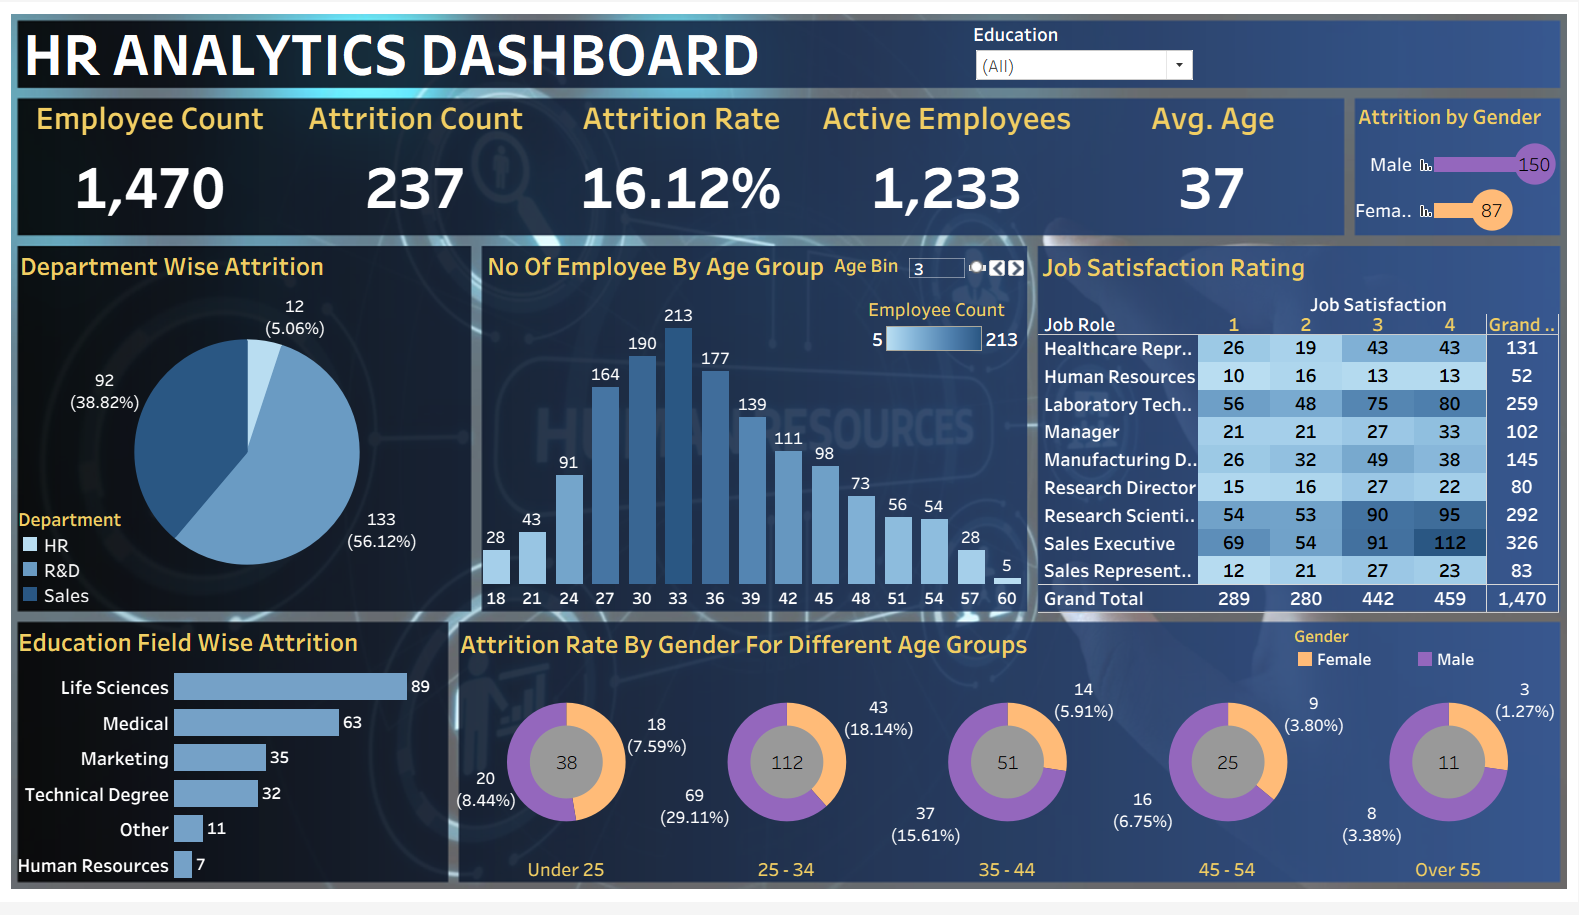

Layout of this report page (visuals, bound fields, positions):
{"tool":"tableau","page":{"name":"HR ANALYTICS DASHBOARD","canvas":[1000,1000],"units":"permille","ordinal":0},"visuals":[{"type":"image","param":"Image/HR background.pptx.png","box":[5.1,8.9,989.9,982.2]},{"type":"text","box":[12.7,16.7,978.5,78.9]},{"type":"filter","title":"Department Wise Attrition","param":"[federated.0zcrlvu05upln611k58nj06wpeat].[none:Education:nk]","box":[616.5,21.1,141.1,75.6]},{"type":"worksheet","title":"KPI","mark":"Automatic","box":[11.4,105.6,841.1,152.2]},{"type":"worksheet","title":"Attrition by Gender","mark":"Automatic","rows":["Gender"],"cols":["Calculation_0976092900720640","Calculation_0976092900720640"],"box":[857.6,106.7,131,151.1]},{"type":"worksheet","title":"Department Wise Attrition","mark":"Pie","box":[10.8,270,292.4,406.7]},{"type":"worksheet","title":"No Of Employee By Age Group","mark":"Automatic","rows":["Employee Count"],"cols":["Age (bin)"],"box":[303.2,270,346.8,405.6]},{"type":"worksheet","title":"Job Satisfaction Rating","mark":"Square","rows":["Job Role"],"cols":["Job Satisfaction"],"box":[657.6,271.1,329.8,407.8]},{"type":"parameter","param":"[Parameters].[Parameter 0207534358319104]","box":[528.5,281.1,122.2,48.9]},{"type":"legend","title":"No Of Employee By Age Group","param":"[federated.0zcrlvu05upln611k58nj06wpeat].[sum:Employee Count:qk]","box":[550,326.7,98.1,73.3]},{"type":"legend","title":"Department Wise Attrition","param":"[federated.0zcrlvu05upln611k58nj06wpeat].[none:Department:nk]","box":[12,560,71.5,113.3]},{"type":"worksheet","title":"Education Field Wise Attrition","mark":"Automatic","rows":["Education Field"],"cols":["Calculation_0976092900720640"],"box":[9.5,687.8,275.3,290]},{"type":"worksheet","title":"Attrition Rate By Gender For Different Age Groups","mark":"Pie","rows":["Calculation_0207534376513538","Calculation_0207534376513538"],"cols":["CF_age band"],"box":[289.2,690,698.1,287.8]},{"type":"legend","title":"Attrition Rate By Gender For Different Age Groups","param":"[federated.0zcrlvu05upln611k58nj06wpeat].[none:Gender:nk]","box":[819.6,692.2,166.5,52.2]}]}

Visuals, with their boxes on the dashboard's canvas, which has no fixed pixel size, in thousandths of its width and height (x1, y1, x2, y2). These are canvas units, not pixel positions in the 1579x915 screenshot, which may show the page scaled, cropped or inside an application window:
image: [x1=5, y1=9, x2=995, y2=991]
text: [x1=13, y1=17, x2=991, y2=96]
"Department Wise Attrition" filter: [x1=616, y1=21, x2=758, y2=97]
"KPI" worksheet: [x1=11, y1=106, x2=852, y2=258]
"Attrition by Gender" worksheet: [x1=858, y1=107, x2=989, y2=258]
"Department Wise Attrition" worksheet (Pie marks): [x1=11, y1=270, x2=303, y2=677]
"No Of Employee By Age Group" worksheet: [x1=303, y1=270, x2=650, y2=676]
"Job Satisfaction Rating" worksheet (Square marks): [x1=658, y1=271, x2=987, y2=679]
parameter: [x1=528, y1=281, x2=651, y2=330]
"No Of Employee By Age Group" legend: [x1=550, y1=327, x2=648, y2=400]
"Department Wise Attrition" legend: [x1=12, y1=560, x2=84, y2=673]
"Education Field Wise Attrition" worksheet: [x1=10, y1=688, x2=285, y2=978]
"Attrition Rate By Gender For Different Age Groups" worksheet (Pie marks): [x1=289, y1=690, x2=987, y2=978]
"Attrition Rate By Gender For Different Age Groups" legend: [x1=820, y1=692, x2=986, y2=744]
